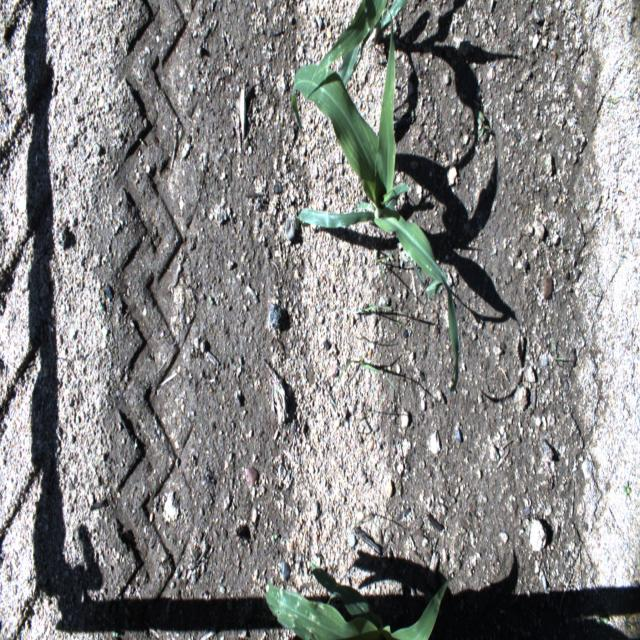crop: (292, 10, 460, 390), (291, 0, 408, 133), (262, 564, 450, 638)
weed: (623, 478, 631, 496)
